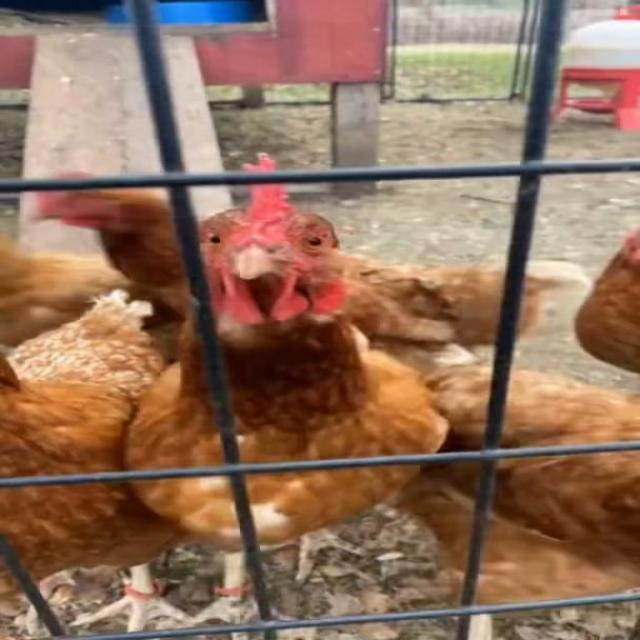Chicken: (122, 154, 450, 637), (24, 168, 588, 364), (404, 344, 640, 640), (0, 290, 194, 637), (0, 232, 189, 366), (569, 225, 640, 376)
